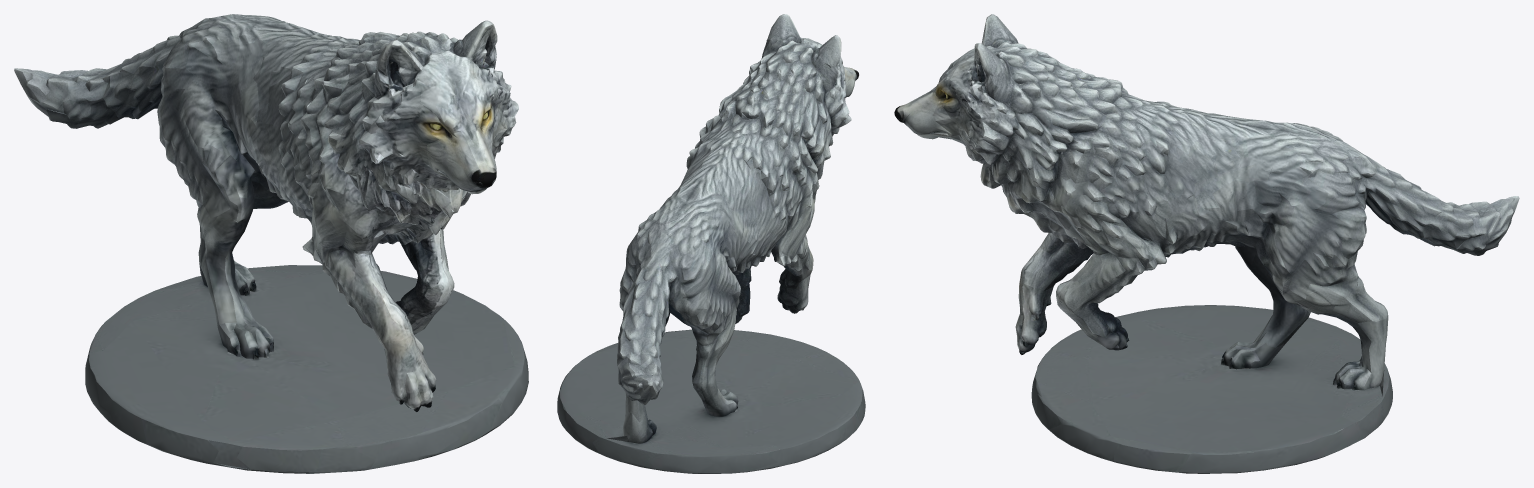
Rendered from wolf.glb.
3 renders of one model, left to right at view 1: azimuth 30°, elevation 25°; view 2: azimuth 150°, elevation 25°; view 3: azimuth 270°, elevation 25°, orthographic. The views are drawn at different scales.
Parts seen in each view (by area): view 1: output_unwrapped; view 2: output_unwrapped; view 3: output_unwrapped.
Part boxes in pixels (bbox=[...]): output_unwrapped: bbox=[14, 14, 528, 473]; output_unwrapped: bbox=[557, 14, 865, 473]; output_unwrapped: bbox=[894, 14, 1519, 473].
Bounding box in the file's own units: 1.09 × 1.23 × 1.89.
1 material, 1 textured.
